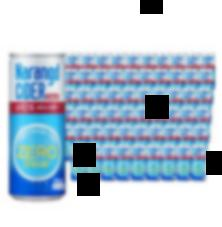narangdcider: (8, 51, 67, 202)
